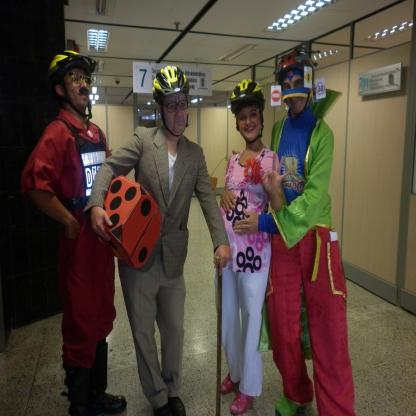Helmet: (50, 50, 95, 119), (277, 56, 316, 121), (151, 67, 188, 129), (229, 79, 265, 141)
